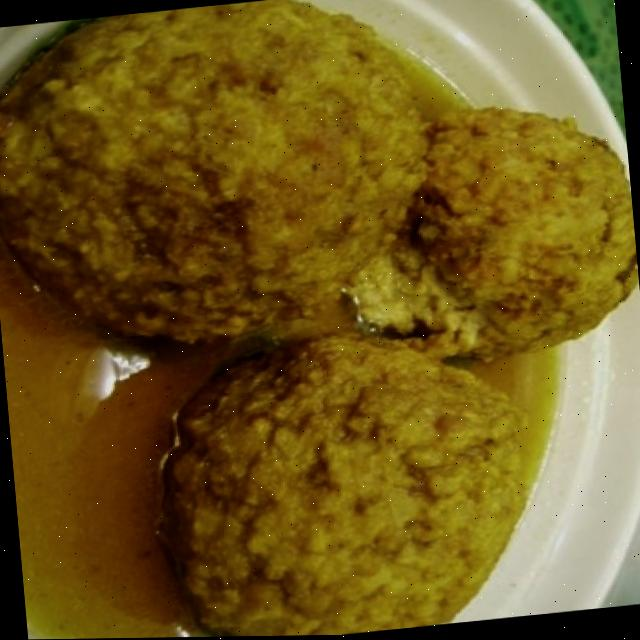猪肉菜式: (0, 13, 609, 613)
